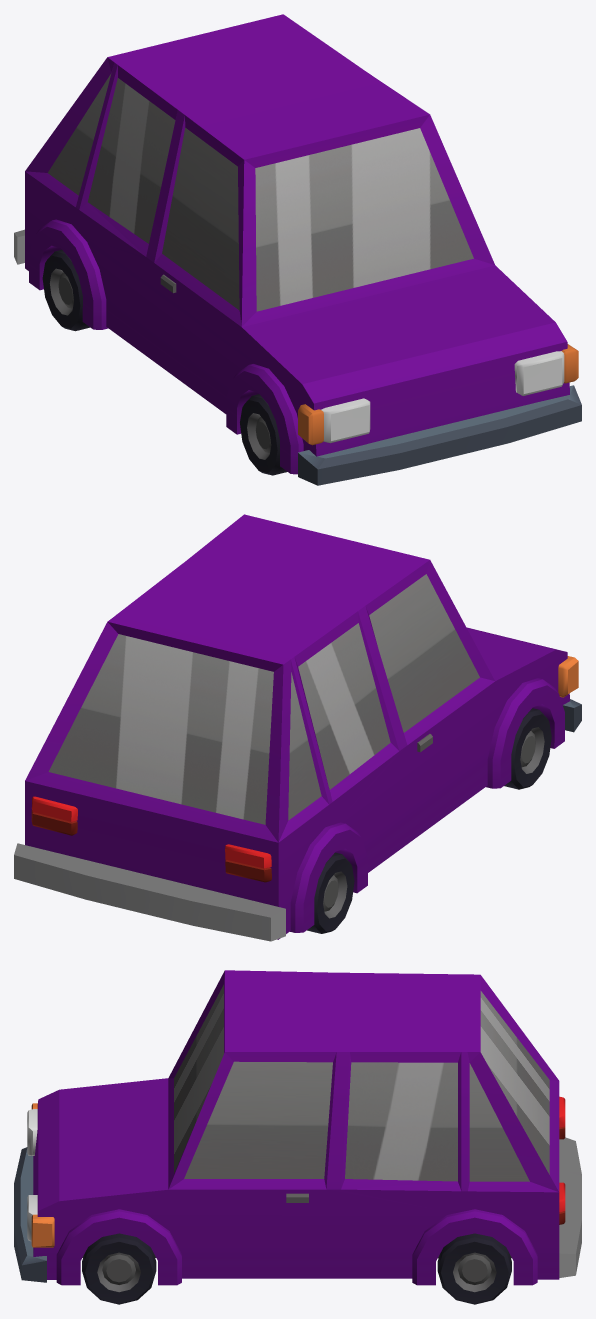
File: Car_1_7.fbx
3 renders of one model, top to bottom at view 1: azimuth 30°, elevation 25°; view 2: azimuth 150°, elevation 25°; view 3: azimuth 270°, elevation 25°, orthographic. The views are drawn at different scales.
Parts seen in each view (by area): view 1: Car_1_7, Wheel_Br, Wheel_Fr; view 2: Car_1_7, Wheel_Fr, Wheel_Br; view 3: Car_1_7, Wheel_Fl, Wheel_Bl.
Boxes of the visible parts, box(x1,y1,x2,y2) form: Car_1_7: box(14, 14, 581, 485); Wheel_Br: box(42, 249, 89, 331); Wheel_Fr: box(240, 394, 287, 475); Car_1_7: box(14, 514, 581, 941); Wheel_Fr: box(504, 708, 551, 789); Wheel_Br: box(307, 852, 354, 933); Car_1_7: box(14, 970, 581, 1285); Wheel_Fl: box(82, 1233, 156, 1304); Wheel_Bl: box(437, 1233, 511, 1304).
Bounding box in the file's own units: 105 × 94.33 × 207.
